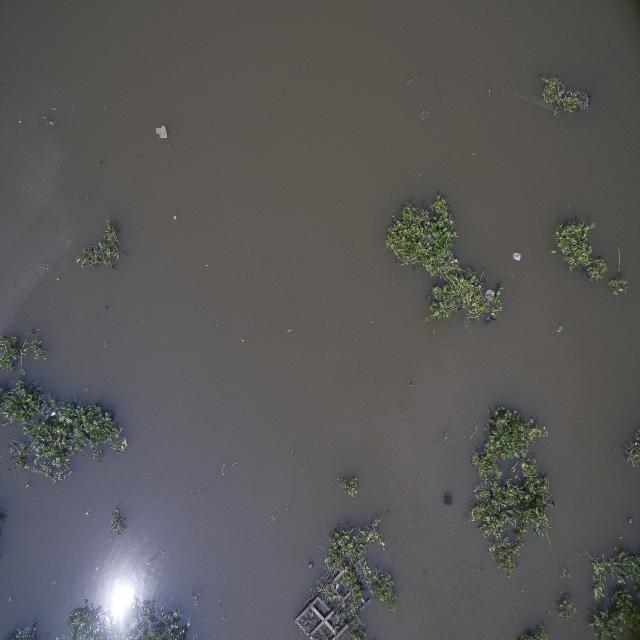debris: (301, 581, 366, 633), (154, 120, 168, 140), (511, 248, 522, 268), (109, 257, 119, 271), (494, 282, 503, 295), (100, 302, 111, 312), (628, 515, 635, 525)
plastic: (441, 491, 455, 508), (305, 559, 319, 573), (120, 435, 131, 450), (46, 409, 59, 420)
